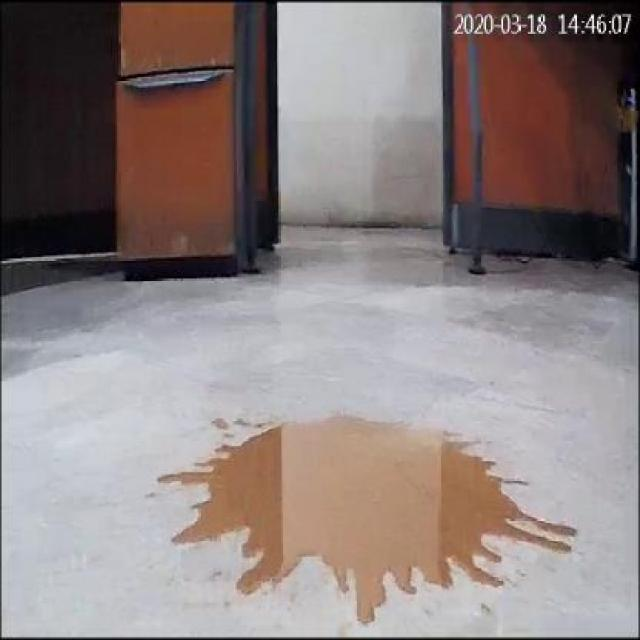spill: (152, 410, 577, 632)
